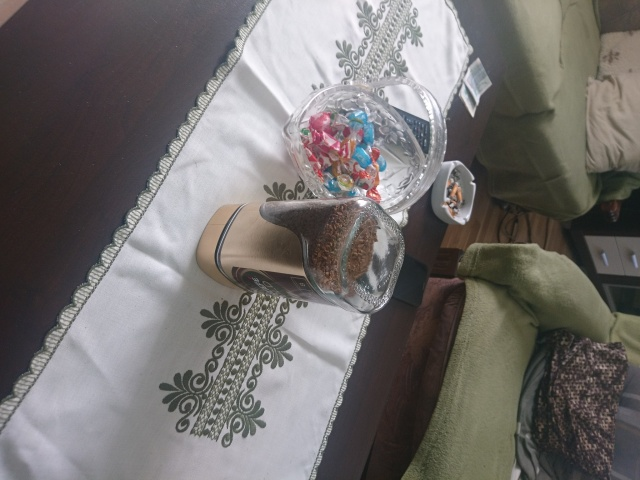Nescafe Gold 225g: (192, 194, 409, 318)
